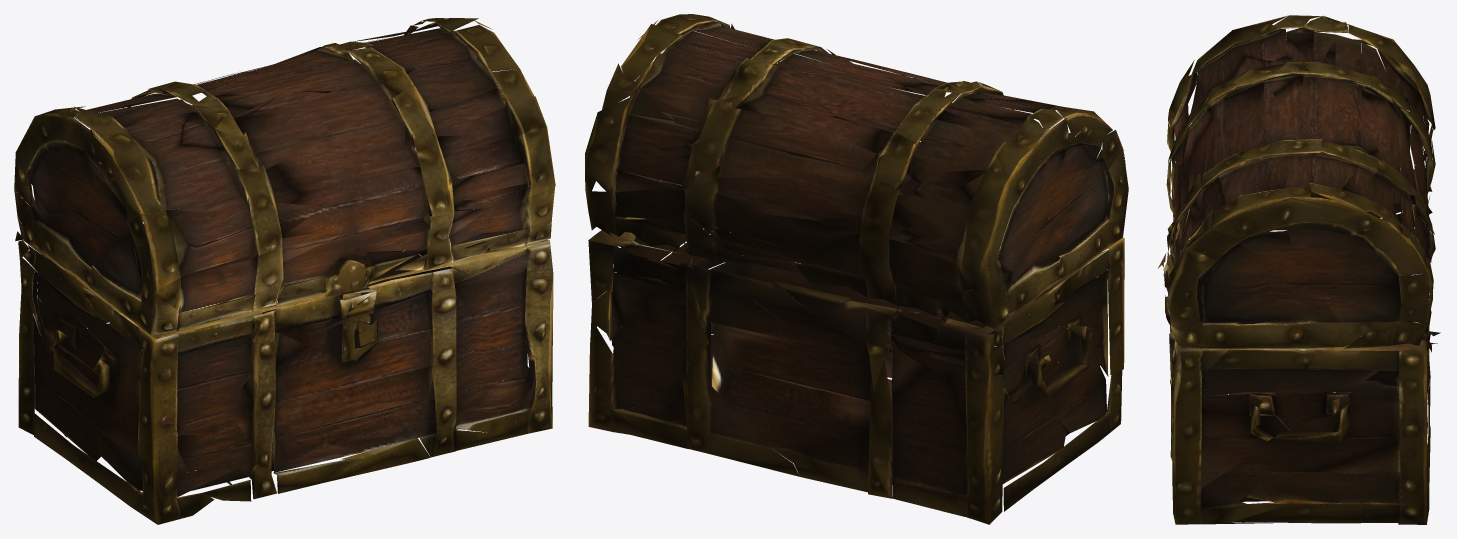
File: chest.glb
3 views of the same model, side by side, from view 1: azimuth 30°, elevation 25°; view 2: azimuth 150°, elevation 25°; view 3: azimuth 270°, elevation 25° (orthographic). The views are drawn at different scales.
Parts seen in each view (by area): view 1: chest_lid, chest_body; view 2: chest_lid, chest_body; view 3: chest_lid, chest_body.
Boxes of the visible parts, bbox=[...] form: chest_lid: bbox=[14, 18, 555, 335]; chest_body: bbox=[15, 152, 553, 524]; chest_lid: bbox=[585, 14, 1128, 328]; chest_body: bbox=[588, 165, 1124, 524]; chest_lid: bbox=[1166, 15, 1435, 349]; chest_body: bbox=[1158, 169, 1440, 524].
Size of the model in its own units: 0.92 by 0.7515 by 0.5744.
1 material, 1 textured.
